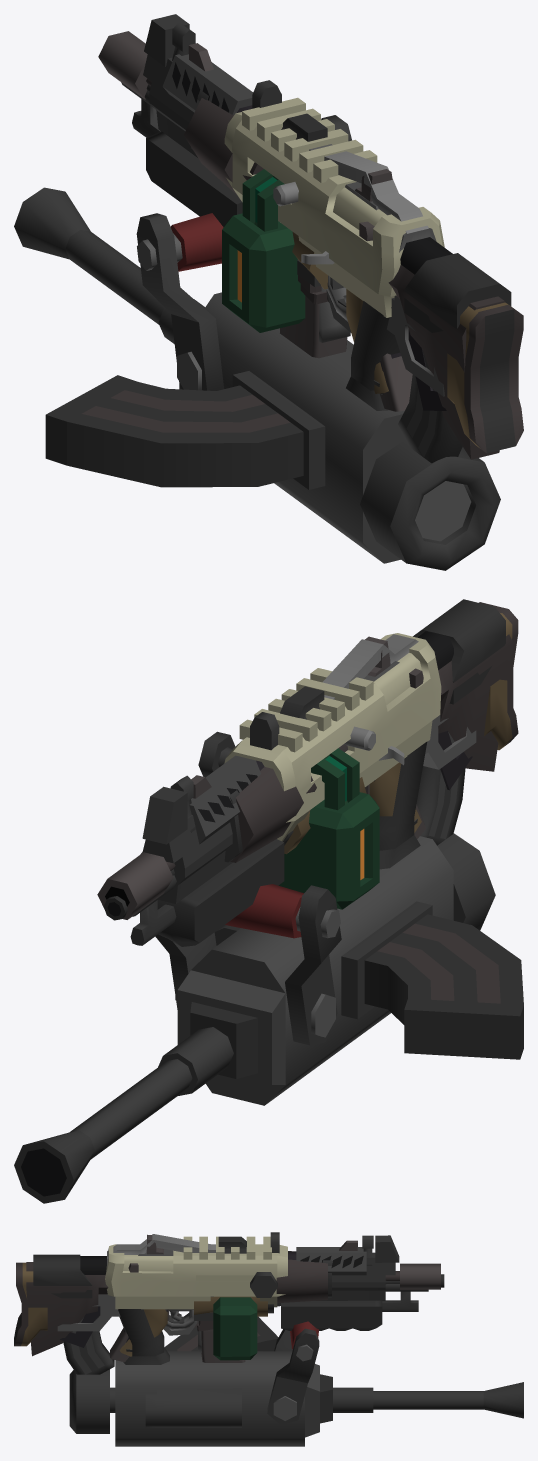
Rendered from Rifles.fbx.
The picture shows the model from 3 angles, top to bottom: view 1: azimuth 30°, elevation 25°; view 2: azimuth 150°, elevation 25°; view 3: azimuth 270°, elevation 25°; orthographic projection. The views are drawn at different scales.
Visible parts, largest first — view 1: MMCannon, L6, 20MMMagazine, L1055, M4, L6Magazine, Rifle, L105 Magazine, M4Magazine, Magazine; view 2: MMCannon, L6, 20MMMagazine, L1055, M4, L6Magazine, Rifle, L105 Magazine; view 3: MMCannon, L6, M4, L1055, L6Magazine, Rifle, L105 Magazine, 20MMMagazine, M4Magazine.
Part boxes in pixels (left/top/right/bottom): MMCannon: left=14, top=187, right=500, bottom=570; L6: left=121, top=14, right=444, bottom=394; 20MMMagazine: left=45, top=375, right=303, bottom=487; L1055: left=252, top=80, right=523, bottom=453; M4: left=98, top=31, right=505, bottom=459; L6Magazine: left=222, top=169, right=305, bottom=332; Rifle: left=146, top=23, right=452, bottom=410; L105 Magazine: left=398, top=374, right=462, bottom=463; M4Magazine: left=280, top=296, right=347, bottom=358; Magazine: left=319, top=287, right=350, bottom=342; MMCannon: left=14, top=741, right=495, bottom=1203; L6: left=130, top=633, right=441, bottom=946; 20MMMagazine: left=364, top=914, right=523, bottom=1059; L1055: left=250, top=599, right=518, bottom=854; M4: left=97, top=634, right=513, bottom=919; L6Magazine: left=278, top=748, right=379, bottom=909; Rifle: left=103, top=631, right=472, bottom=920; L105 Magazine: left=416, top=757, right=465, bottom=845; MMCannon: left=69, top=1309, right=523, bottom=1446; L6: left=105, top=1235, right=428, bottom=1351; M4: left=26, top=1234, right=440, bottom=1362; L1055: left=14, top=1232, right=279, bottom=1356; L6Magazine: left=213, top=1297, right=257, bottom=1360; Rifle: left=60, top=1235, right=444, bottom=1347; L105 Magazine: left=63, top=1331, right=114, bottom=1374; 20MMMagazine: left=164, top=1316, right=278, bottom=1351; M4Magazine: left=201, top=1329, right=245, bottom=1362.
Size of the model in its own units: 48.94 by 51.17 by 115.
